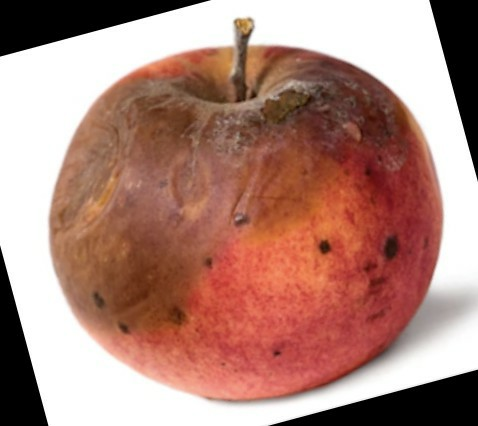rotten_apple: (45, 48, 441, 398)
